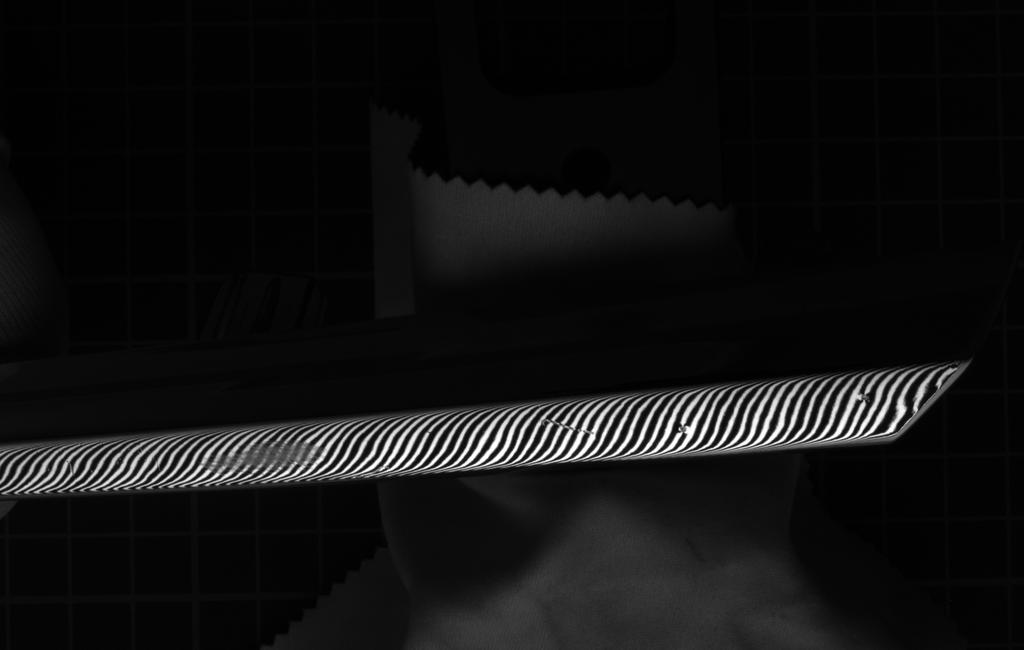Pierced: (852, 387, 877, 409), (671, 419, 697, 440)
Pitting: (196, 439, 332, 475)
Scratch: (527, 415, 609, 444)
